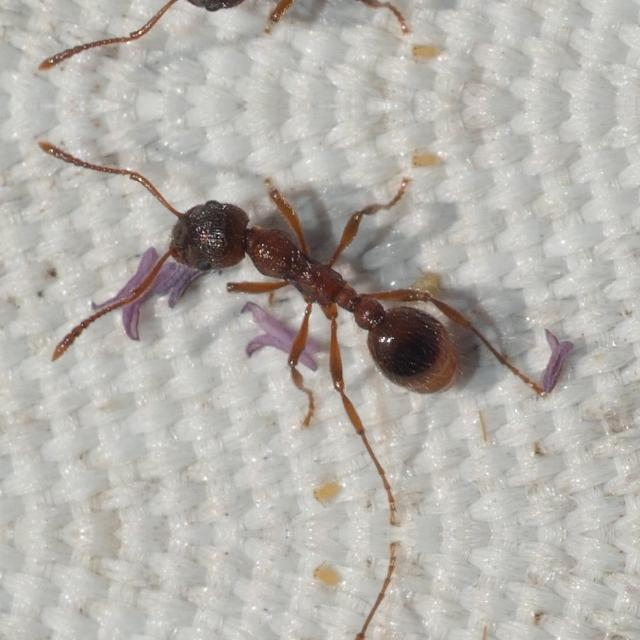Myrmica: (129, 142, 487, 432), (129, 0, 487, 68)
